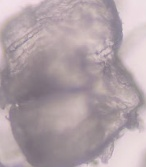microplastic: (1, 1, 143, 167), (101, 138, 115, 165)
